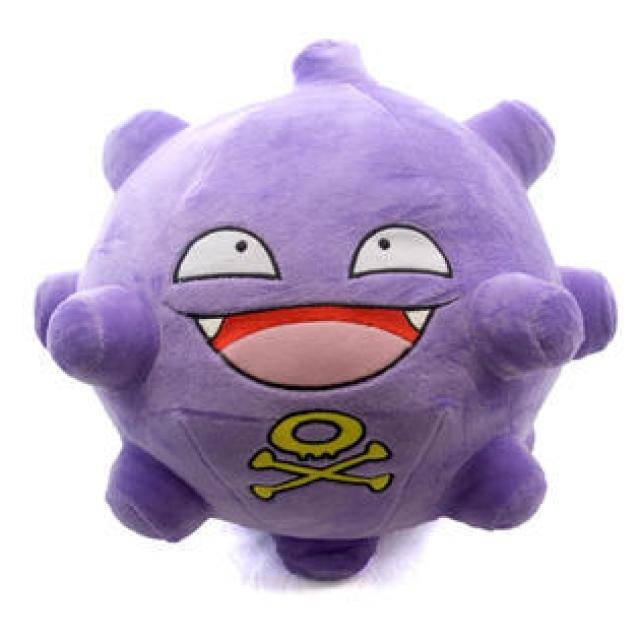Koffing: (29, 39, 596, 582)
